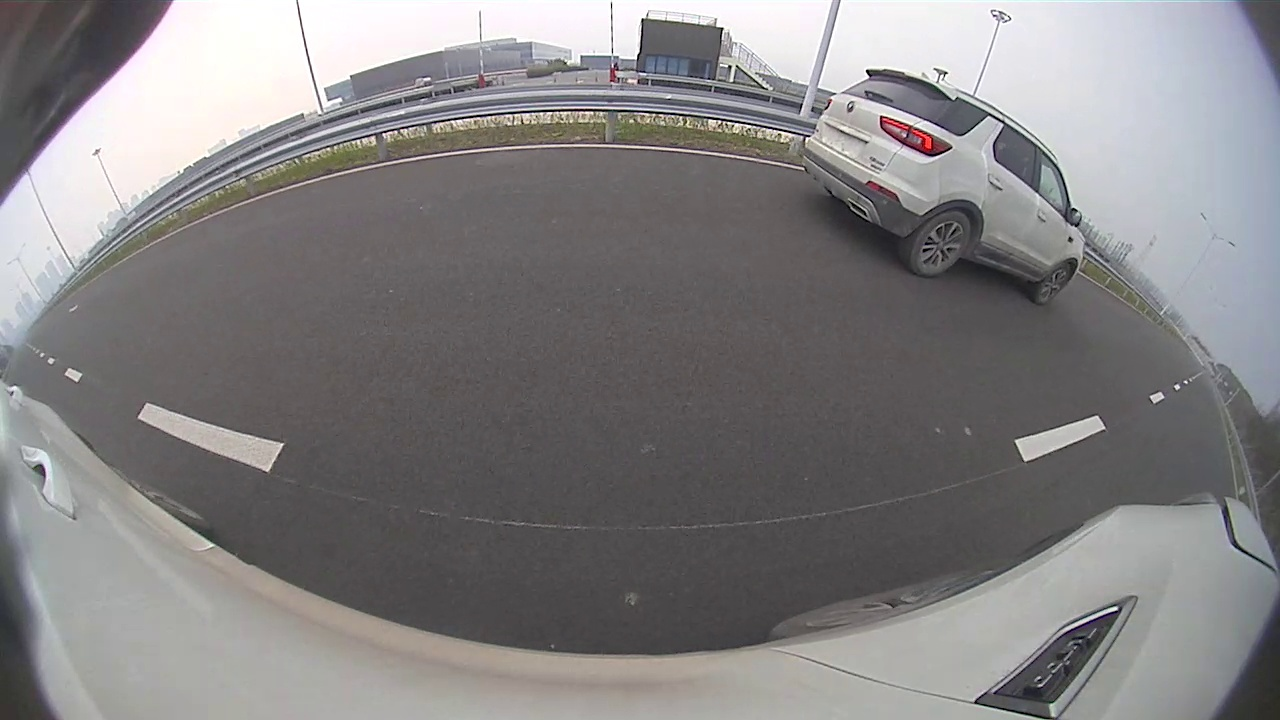car: (802, 69, 1086, 305)
front: (1034, 266, 1073, 306)
rear: (910, 212, 972, 279)
